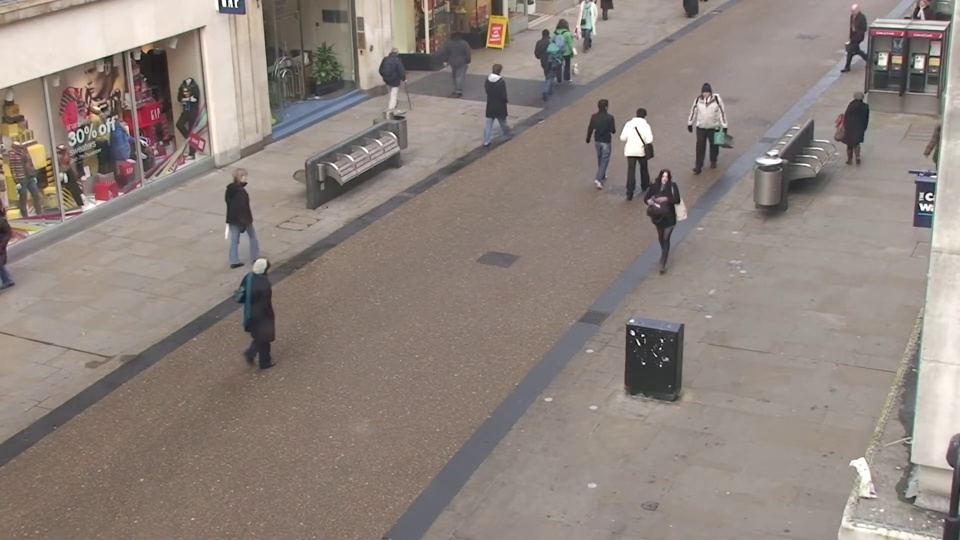pedestrian: (254, 248, 303, 377), (235, 163, 276, 269), (646, 165, 682, 275), (835, 86, 872, 176), (630, 100, 660, 192), (686, 87, 716, 175), (592, 92, 621, 181), (492, 59, 519, 139), (830, 0, 861, 69), (385, 40, 412, 114), (446, 27, 471, 97), (538, 22, 562, 91), (555, 18, 579, 86)
